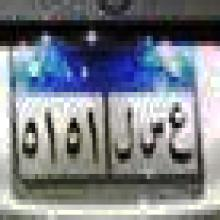1: (83, 105, 102, 157), (42, 108, 59, 162)
5: (22, 114, 40, 157), (67, 116, 81, 158)
ain: (165, 102, 190, 165)
laam: (114, 101, 136, 164)
seen: (140, 111, 164, 159)
